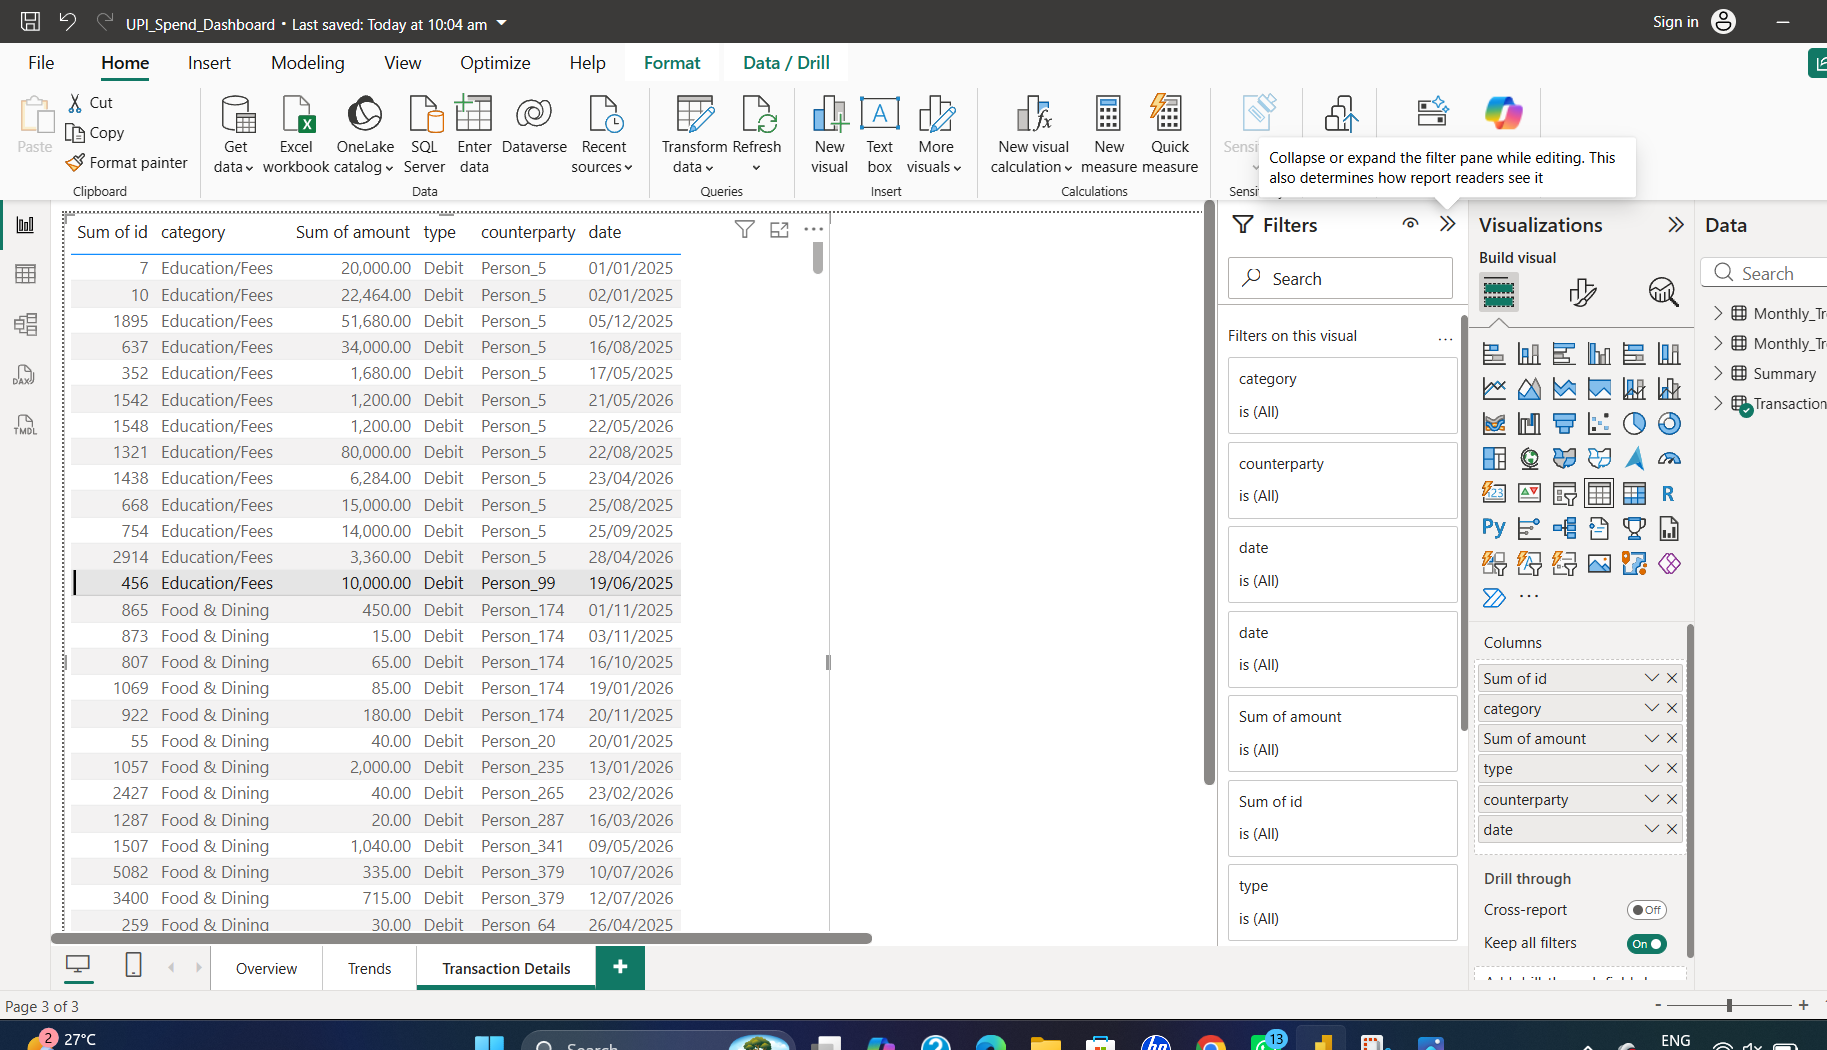

Layout of this report page (visuals, bound fields, positions):
{"tool":"powerbi","page":{"name":"Transaction Details","canvas":[1280,720],"ordinal":2},"visuals":[{"type":"tableEx","fields":{"Values":["Sum(Transactions.id)","Transactions.category","Sum(Transactions.amount)","Transactions.type","Transactions.counterparty","Transactions.date.Variation.Date Hierarchy.Year"]},"box":[0,0,929,720.4],"z":0}]}

Visuals, with their boxes in screenshot pixels (x1, y1, x2, y2):
tableEx - Sum(Transactions.id) x Transactions.category: {"x1": 0, "y1": 38, "x2": 1204, "y2": 1016}
